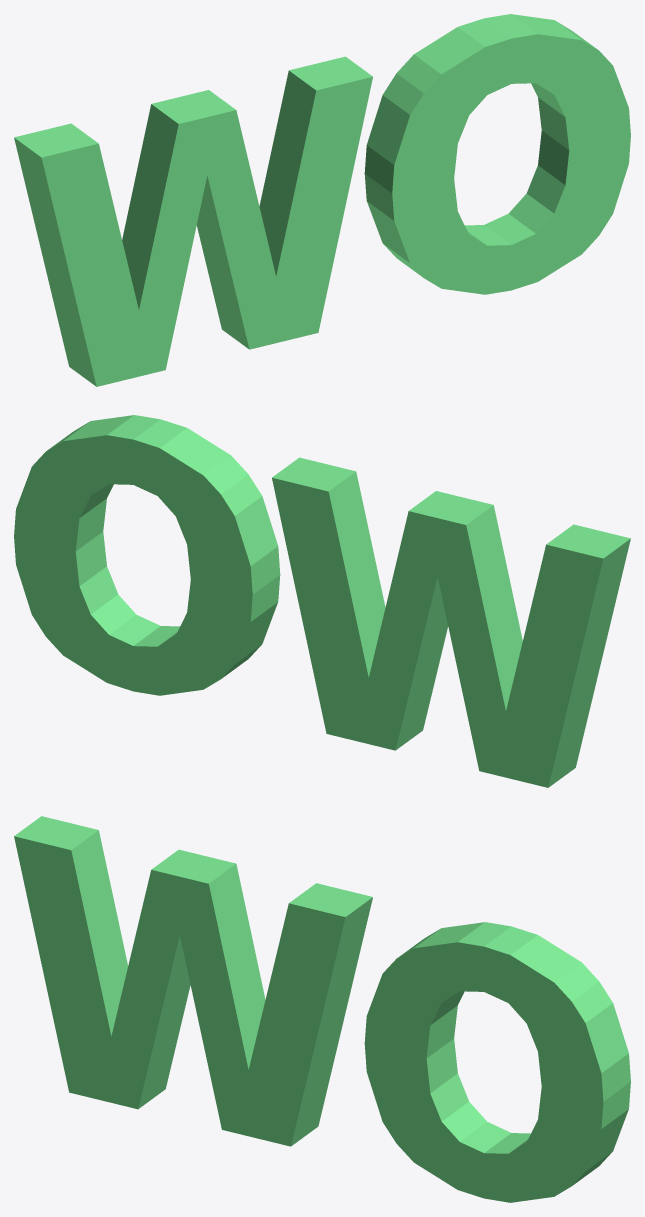
The model's file is suku_besar_wo.glb.
3 renders of one model, top to bottom at view 1: azimuth 30°, elevation 25°; view 2: azimuth 150°, elevation 25°; view 3: azimuth 330°, elevation 25°, orthographic.
Visible parts, largest first — view 1: geometry_0; view 2: geometry_0; view 3: geometry_0.
Part boxes in pixels (x1,y1,x2,y2): geometry_0: [14, 14, 630, 386]; geometry_0: [14, 415, 630, 787]; geometry_0: [14, 816, 630, 1202].
Size of the model in its own units: 18.52 by 7.56 by 1.5.
